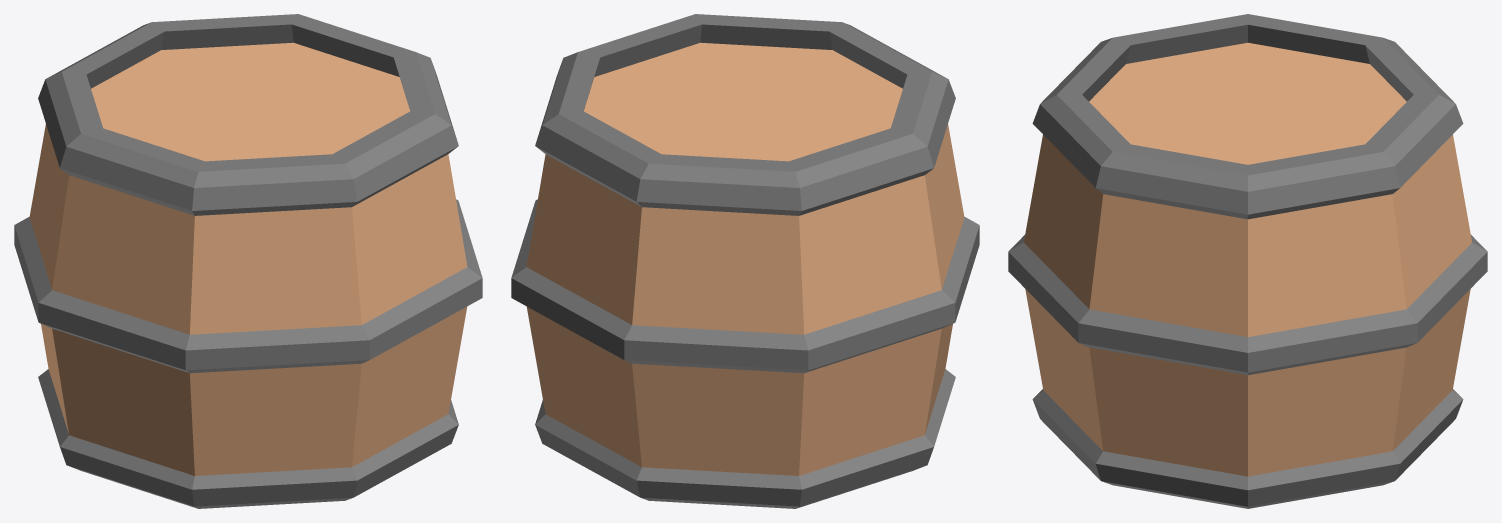
File: Tonneau_2.FBX
3 renders of one model, left to right at view 1: azimuth 30°, elevation 25°; view 2: azimuth 150°, elevation 25°; view 3: azimuth 270°, elevation 25°, orthographic.
Visible parts, largest first — view 1: Cylinder001; view 2: Cylinder001; view 3: Cylinder001.
Boxes of the visible parts, <box> form: Cylinder001: <box>14,14,482,508</box>; Cylinder001: <box>511,14,979,508</box>; Cylinder001: <box>1008,14,1487,508</box>.
Bounding box in the file's own units: 19.75 × 15.15 × 19.75.
